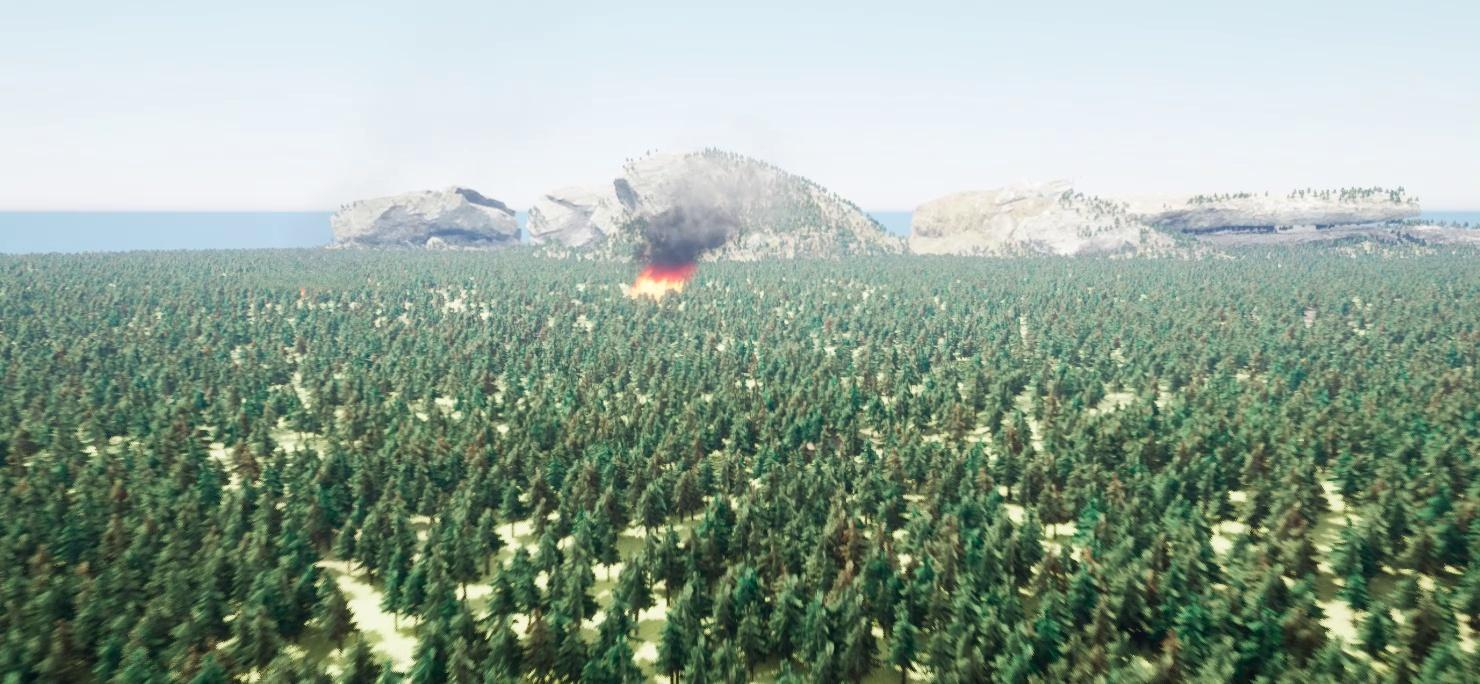fire: (623, 264, 694, 297)
smoke: (638, 187, 746, 262)
